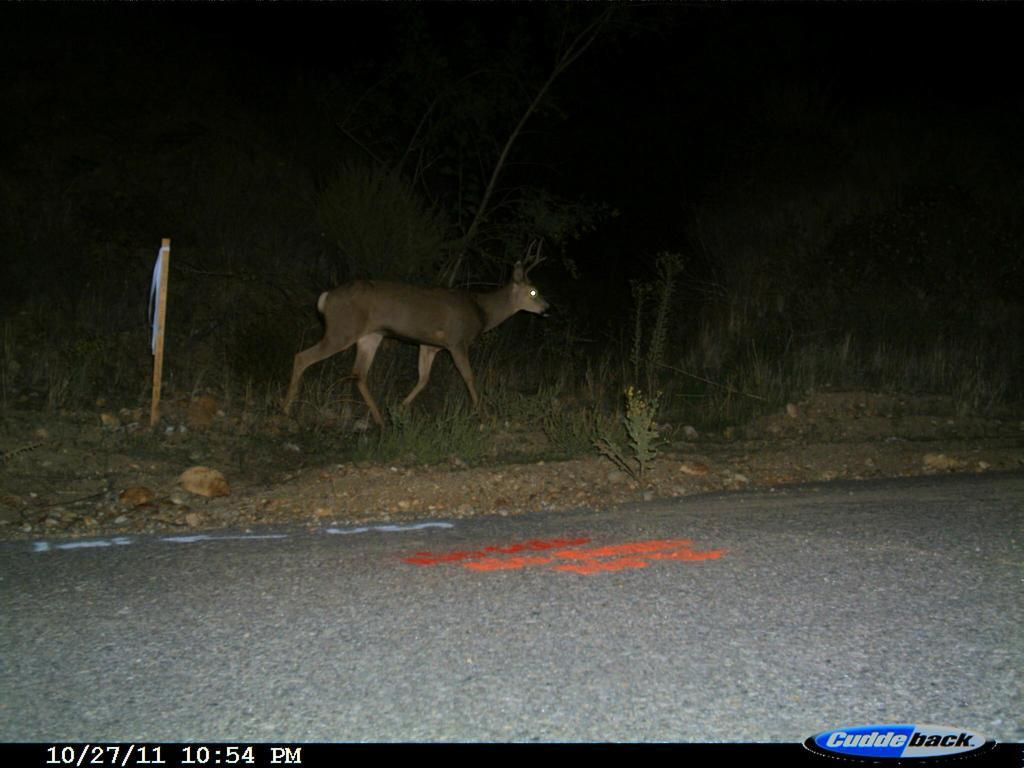deer: (271, 249, 568, 440)
